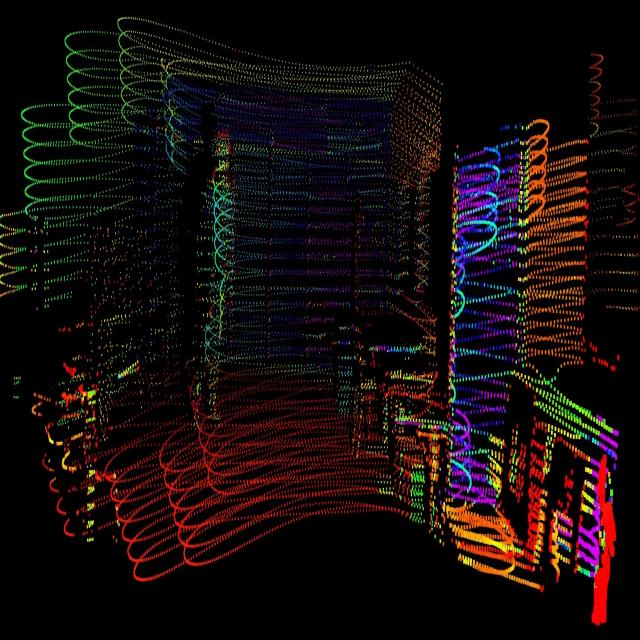human: (184, 112, 243, 444)
